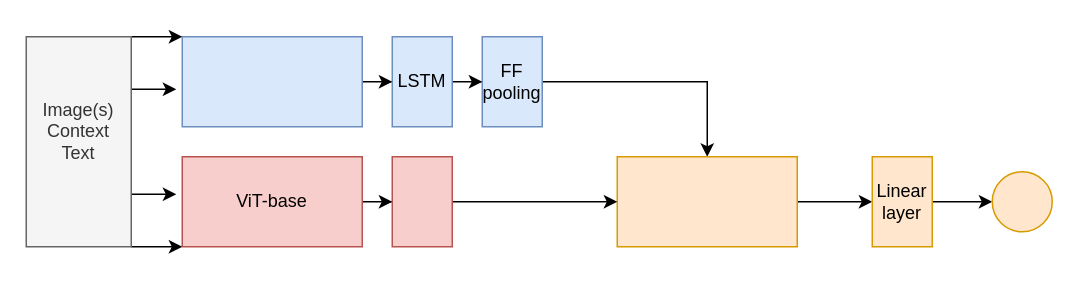
Image size: 1079x285. Some labels were removed from this diagram. Here are the shapes that lost their labels. From the top down, the centre of each, then its label:
At [271,81]: "Deberta-small".
At [421,201]: "Pooling + concat".
At [706,201]: "Transformer block".
